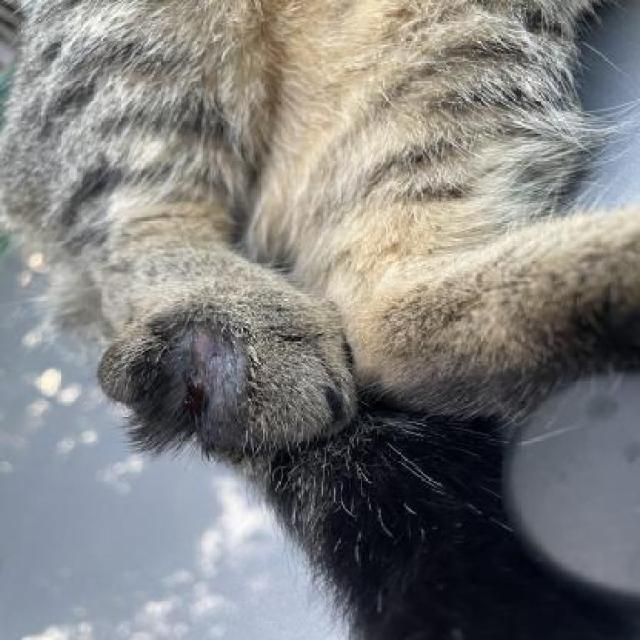injured: (132, 268, 280, 492)
